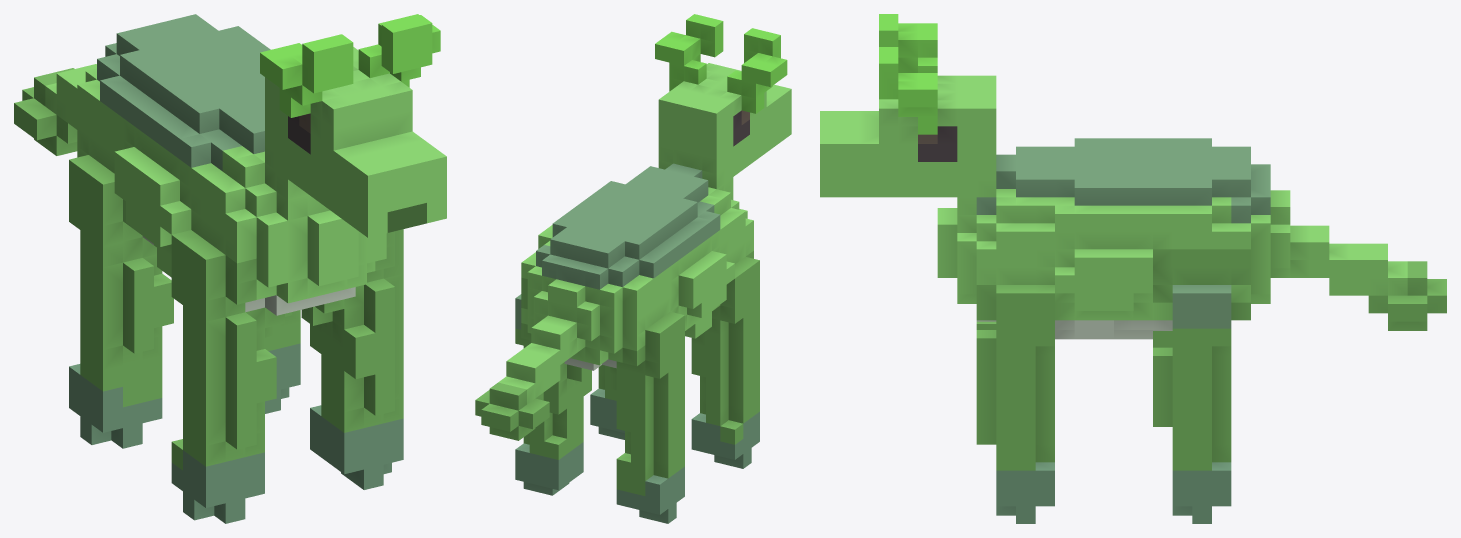
File: frond-42.glb
The picture shows the model from 3 angles, left to right: view 1: azimuth 30°, elevation 25°; view 2: azimuth 150°, elevation 25°; view 3: azimuth 270°, elevation 25°; orthographic projection. The views are drawn at different scales.
Parts seen in each view (by area): view 1: body, legFL, legBL, head, legFR, antlerLeft, antlerRight, tailTip, legBR, tail, neck, eyeLeft; view 2: body, legBL, legFL, head, legBR, tail, antlerRight, antlerLeft, tailTip, neck, legFR, eyeLeft; view 3: body, legFR, legBR, head, tail, tailTip, antlerRight, antlerLeft, eyeRight, neck.
Boxes of the visible parts, box(x1,y1,x2,y2) form: body: box(77, 14, 386, 315); legFL: box(171, 230, 284, 523); legBL: box(69, 155, 173, 448); head: box(265, 47, 446, 237); legFR: box(301, 229, 403, 489); antlerLeft: box(260, 34, 353, 117); antlerRight: box(358, 14, 440, 87); tailTip: box(14, 68, 77, 155); legBR: box(265, 310, 300, 413); tail: box(45, 64, 96, 129); neck: box(265, 142, 308, 199); eyeLeft: box(288, 113, 310, 154); body: box(521, 163, 753, 370); legBL: box(610, 311, 684, 523); legFL: box(691, 251, 759, 468); head: box(658, 63, 791, 176); legBR: box(515, 294, 591, 495); tail: box(498, 315, 576, 404); antlerRight: box(655, 14, 723, 91); antlerLeft: box(727, 28, 787, 113); tailTip: box(475, 382, 549, 440); neck: box(658, 133, 733, 193); legFR: box(590, 365, 624, 439); eyeLeft: box(733, 110, 749, 146); body: box(937, 138, 1290, 339); legFR: box(976, 285, 1054, 523); legBR: box(1153, 285, 1250, 523); head: box(820, 75, 996, 197); tail: box(1290, 225, 1407, 295); tailTip: box(1368, 261, 1446, 330); antlerRight: box(879, 47, 937, 134); antlerLeft: box(879, 14, 937, 72); eyeRight: box(918, 126, 957, 161); neck: box(957, 179, 996, 214).
Size of the model in its own units: 0.45 by 1.13 by 1.44.
